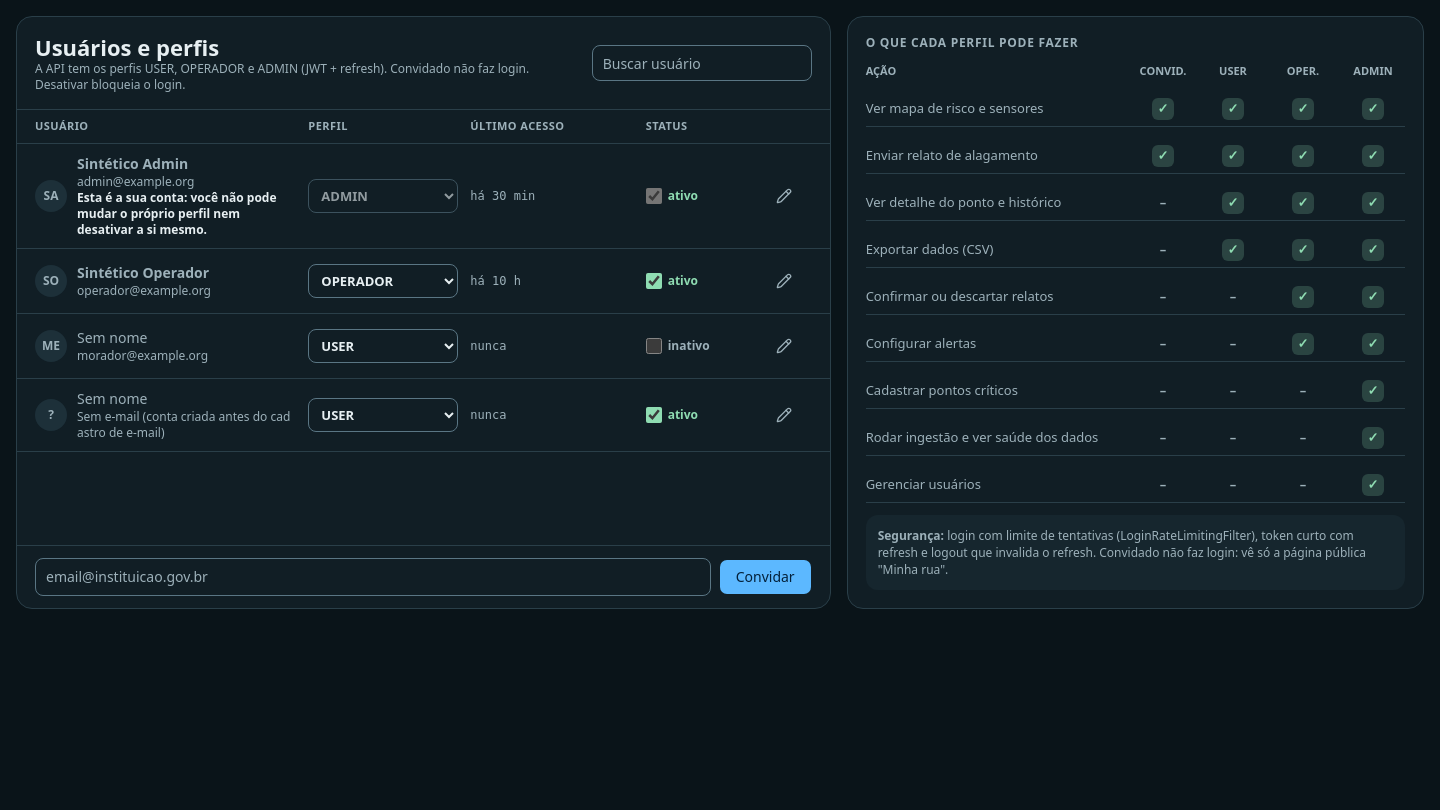
AdminUsersPage › desativar outro usuário avisa que vale na próxima ação dele
Click the switch named "Sintético Operador: conta ativa" at (654, 280), box [646,272,662,288]
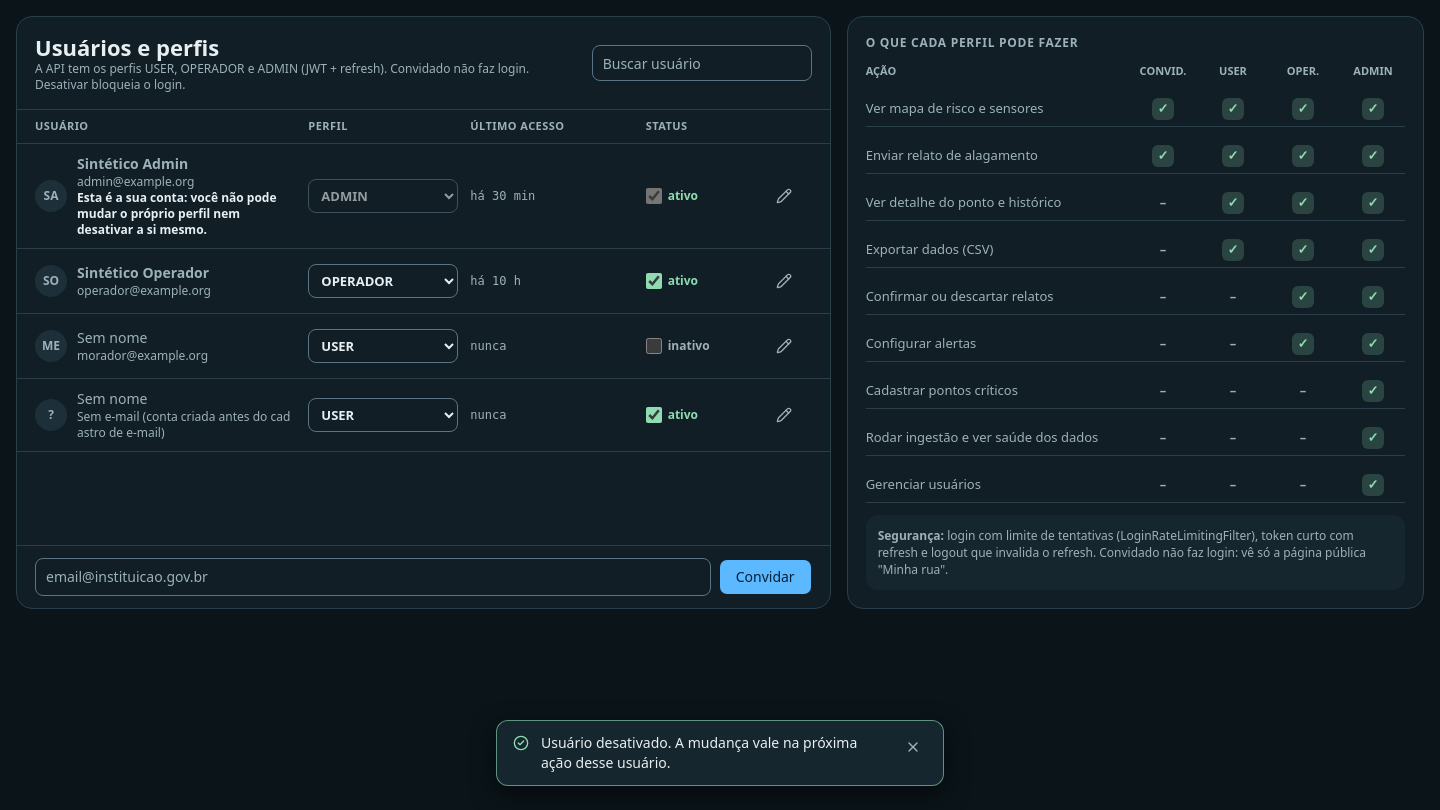
Result: the text "Usuário desativado. A mudança vale na próxima ação desse usuário." is shown at [541,733,887,773]
